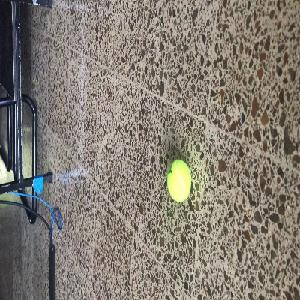Ball: (166, 160, 194, 203)
